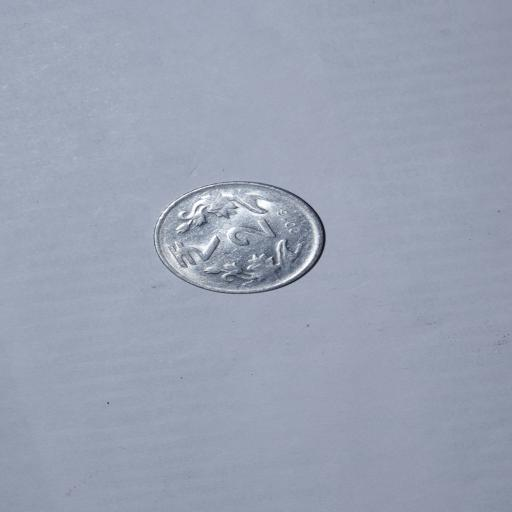rupee2: (151, 181, 324, 292)
